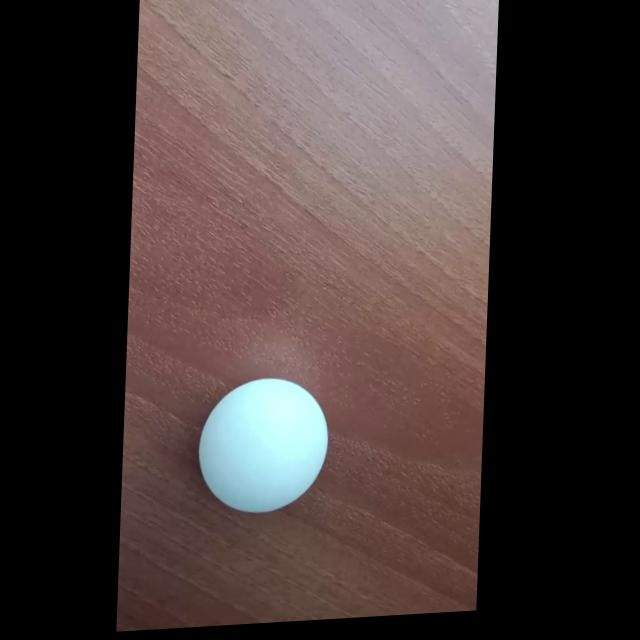white ball: (195, 374, 330, 517)
